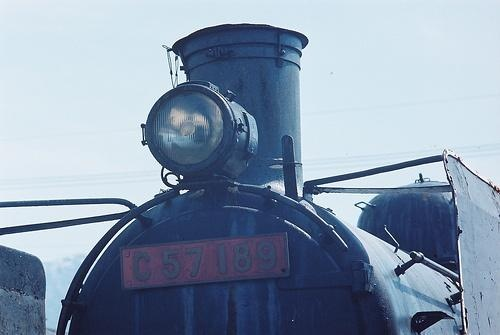train: (3, 2, 500, 334)
